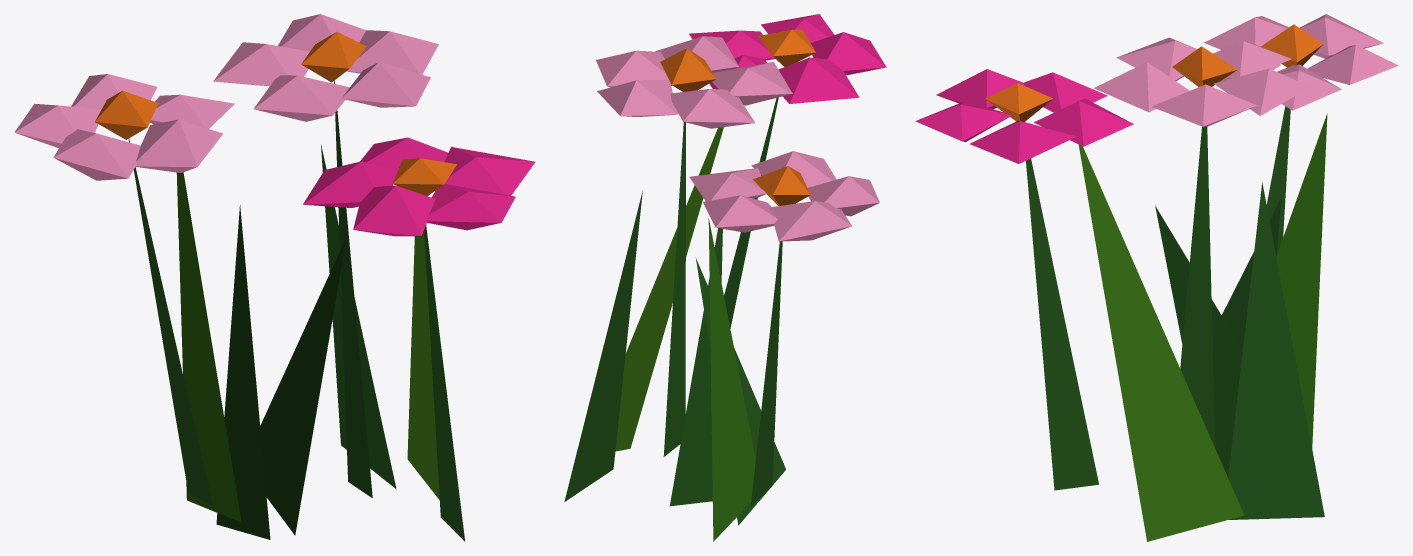
Rendered from flower_tuft.gltf.
3 renders of one model, left to right at view 1: azimuth 30°, elevation 25°; view 2: azimuth 150°, elevation 25°; view 3: azimuth 270°, elevation 25°, orthographic. The views are drawn at different scales.
Parts seen in each view (by area): view 1: flower_tuft; view 2: flower_tuft; view 3: flower_tuft.
Boxes of the visible parts, bbox=[...] form: flower_tuft: bbox=[14, 14, 535, 541]; flower_tuft: bbox=[564, 14, 886, 541]; flower_tuft: bbox=[915, 14, 1398, 541].
Bounding box in the file's own units: 0.3335 × 0.4447 × 0.4284.
